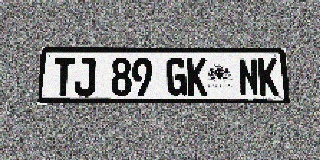8: (111, 58, 132, 96)
9: (132, 58, 152, 96)
G: (167, 58, 187, 96)
J: (74, 58, 96, 96)
K: (258, 58, 279, 96), (187, 58, 207, 96)
N: (238, 58, 259, 96)
T: (53, 58, 75, 96)
